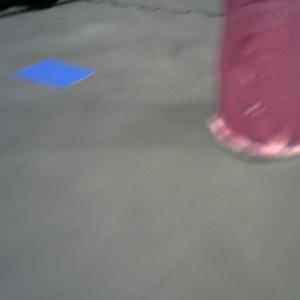Right: (205, 1, 300, 159)
